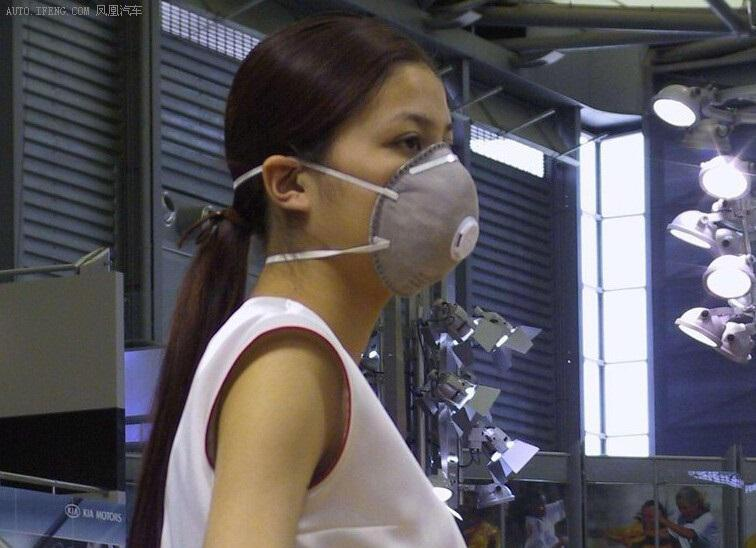OK: (303, 110, 479, 286)
